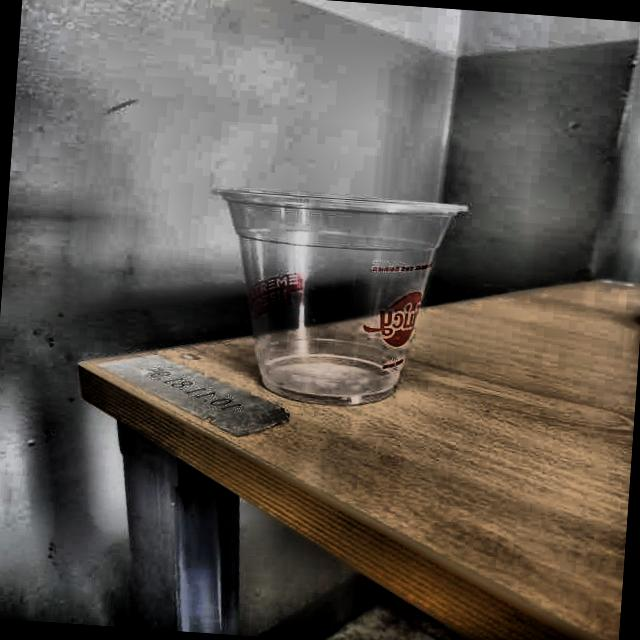plastic cup: (190, 181, 470, 414)
